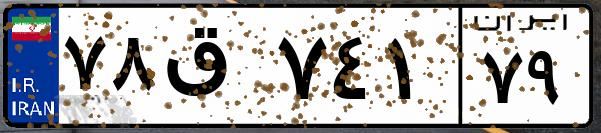1: (385, 28, 445, 110)
4: (330, 28, 385, 110)
7: (270, 28, 330, 110), (57, 26, 110, 100), (475, 38, 525, 113)
8: (110, 28, 158, 98)
9: (525, 38, 570, 115)
ق: (158, 20, 270, 120)
